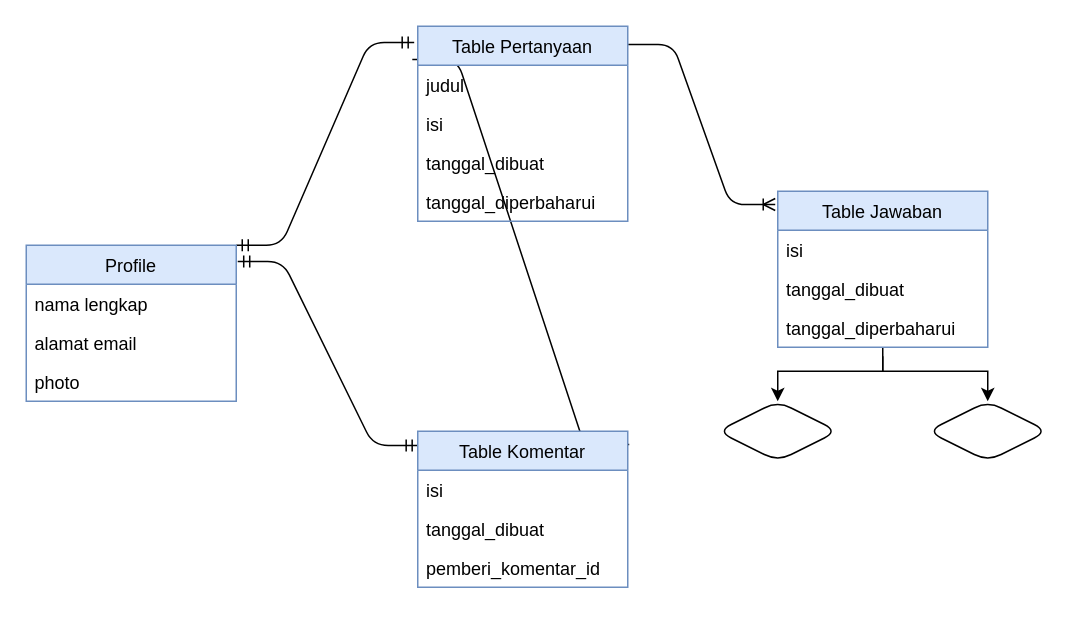
This 1074x618 diagram has some shape labels left out. The shapes that lost their labels are listed below. From the top down, each one's centre as x and y in pixels, then its label:
point (777, 430): Like
point (987, 430): Dislike
